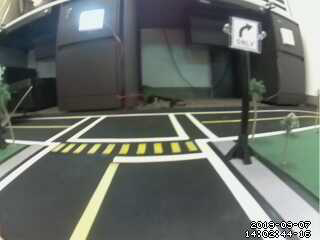Right_only_sign: (231, 16, 263, 53)
